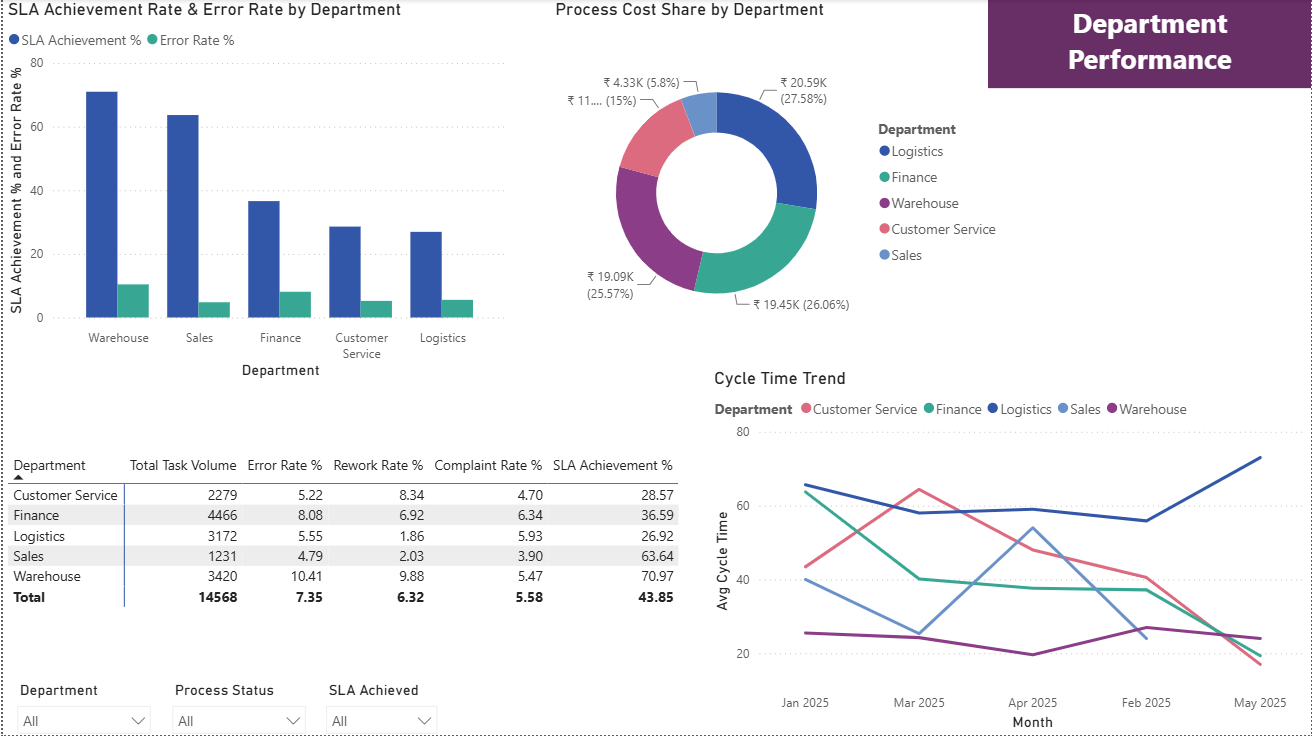

What the dashboard file says about the page in this screenshot:
{"tool":"powerbi","page":{"name":"Department Performance","canvas":[1280,720],"ordinal":2},"visuals":[{"type":"slicer","fields":{"Values":["Raw_Dataset.Department"]},"box":[4.1,662.4,150.9,57.6],"z":0},{"type":"slicer","fields":{"Values":["Raw_Dataset.Process Status"]},"box":[155.1,662.4,150.9,57.6],"z":1000},{"type":"slicer","fields":{"Values":["Raw_Dataset.SLA Achieved"]},"box":[306,662.4,129,57.6],"z":2000},{"type":"clusteredColumnChart","title":"SLA Achievement Rate & Error Rate by Department","fields":{"Category":["Raw_Dataset.Department"],"Y":["Raw_Dataset.SLA Achievement %","Raw_Dataset.Error Rate %"]},"box":[0,0,498.9,376.3],"z":3000},{"type":"donutChart","title":"Process Cost Share by Department","fields":{"Category":["Raw_Dataset.Department"],"Y":["Raw_Dataset.Total Process Cost"]},"box":[535.9,0,450.4,360.6],"z":4000},{"type":"pivotTable","fields":{"Rows":["Raw_Dataset.Department"],"Values":["Raw_Dataset.Total Task Volume","Raw_Dataset.Error Rate %","Raw_Dataset.Rework Rate %","Raw_Dataset.Complaint Rate %","Raw_Dataset.SLA Achievement %"]},"box":[0,440.4,667.1,175.3],"z":5000},{"type":"lineChart","title":"Cycle Time Trend","fields":{"Category":["DateTable.Month"],"Y":["Raw_Dataset.Avg Cycle Time"],"Series":["Raw_Dataset.Department"]},"box":[691.3,360.6,588.7,359.2],"z":6000},{"type":"textbox","box":[963.6,0,316.4,86.9],"z":7000}]}

Visuals, with their boxes in screenshot pixels (x1, y1, x2, y2), scaled from the page's 1280x720 canvas onto the 1312x736 screenshot:
slicer - Raw_Dataset.Department: Rect(4, 677, 159, 735)
slicer - Raw_Dataset.Process Status: Rect(159, 677, 314, 735)
slicer - Raw_Dataset.SLA Achieved: Rect(314, 677, 446, 735)
"SLA Achievement Rate & Error Rate by Department" clusteredColumnChart: Rect(0, 0, 511, 385)
"Process Cost Share by Department" donutChart: Rect(549, 0, 1011, 369)
pivotTable - Raw_Dataset.Department x Raw_Dataset.Total Task Volume: Rect(0, 450, 684, 629)
"Cycle Time Trend" lineChart: Rect(709, 369, 1311, 735)
textbox: Rect(988, 0, 1311, 89)
